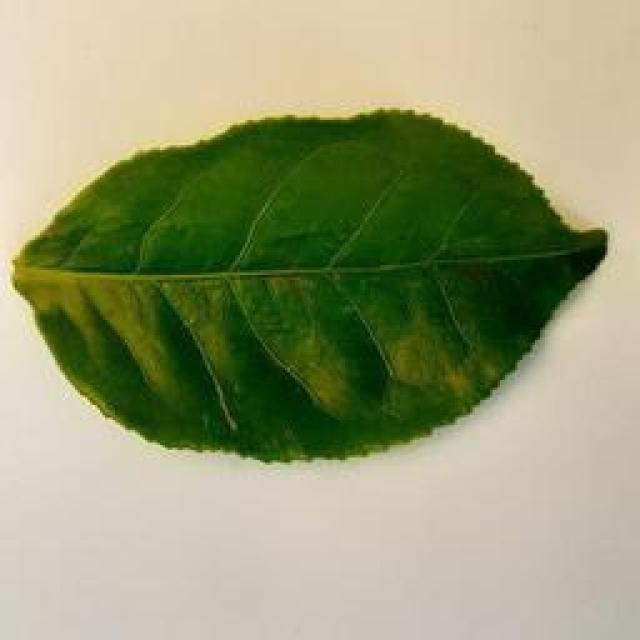Healthy: (4, 87, 636, 486)
